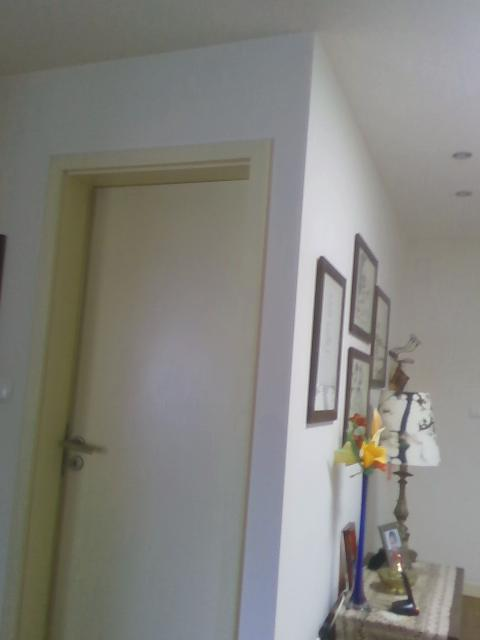closed_door: (17, 136, 272, 638)
